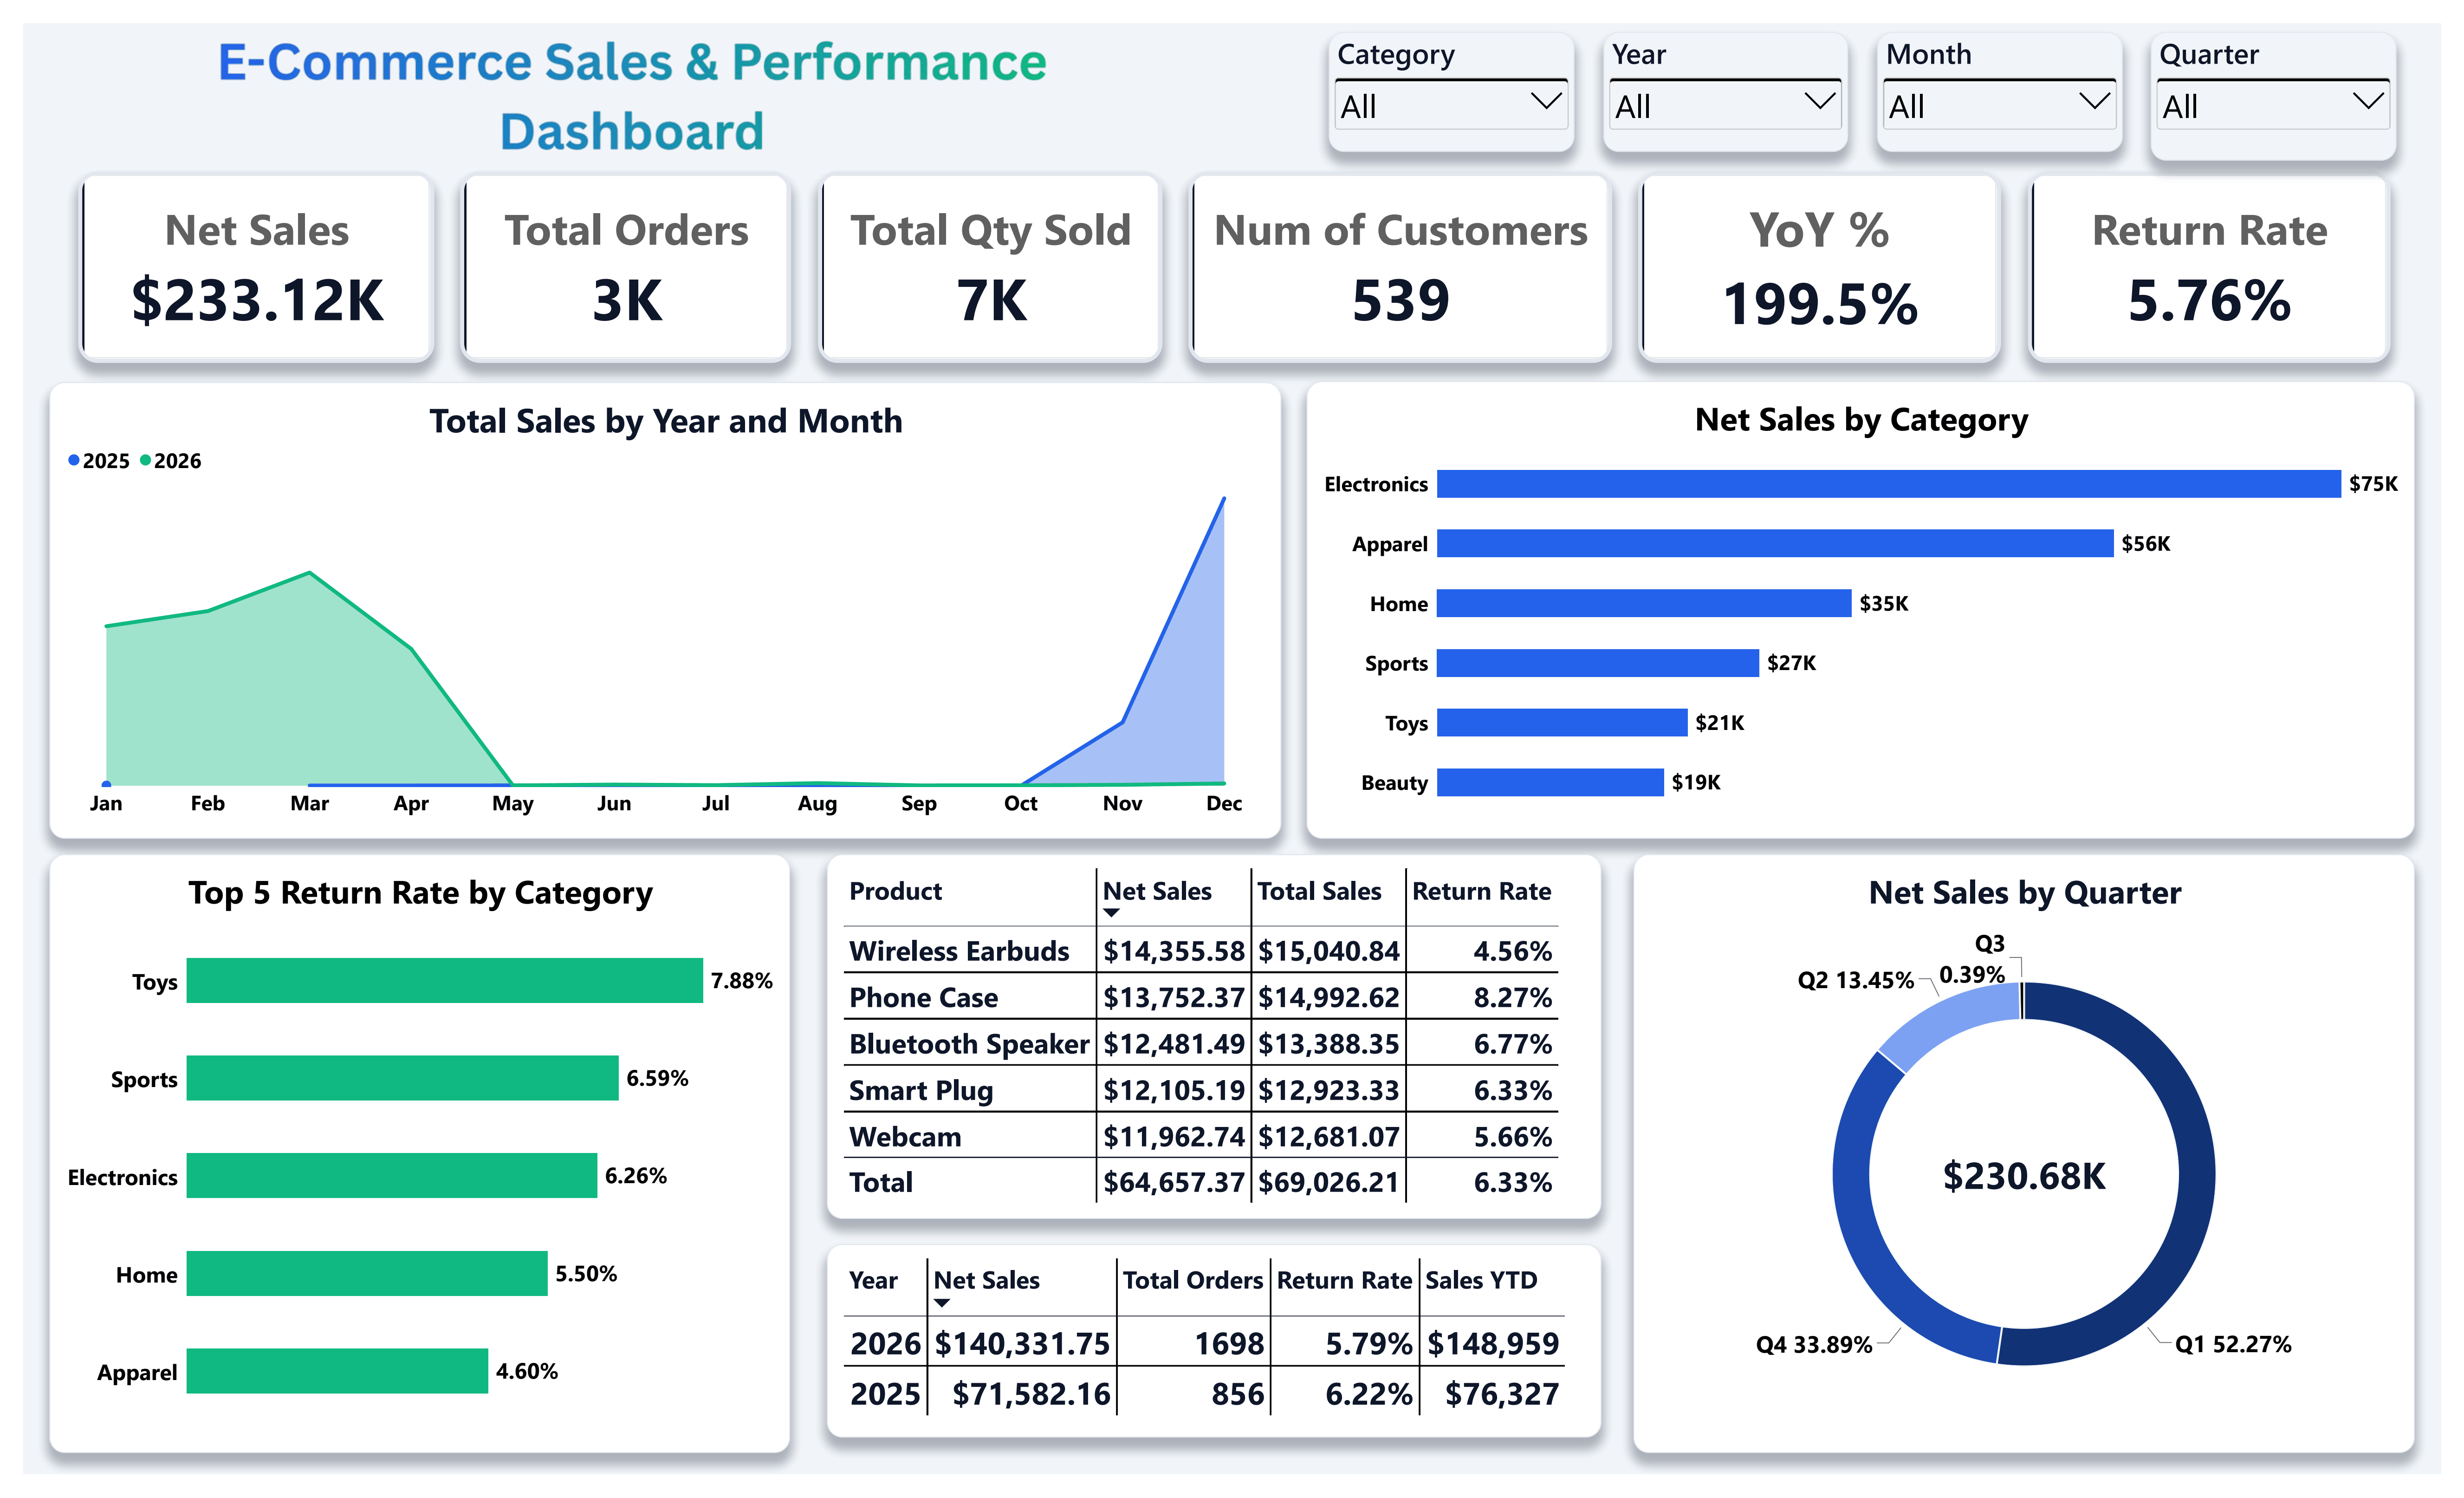

The dashboard page shown, as its layout file describes it:
{"tool":"powerbi","page":{"name":"Overview","canvas":[2500,1500],"ordinal":0},"visuals":[{"type":"cardVisual","fields":{"Data":["Measures (2).Net Sales"]},"box":[57,152.8,367.9,197.9],"z":0},{"type":"cardVisual","fields":{"Data":["Measures (2).Total Orders"]},"box":[452.2,152.8,342.2,197.9],"z":1000},{"type":"cardVisual","fields":{"Data":["Measures (2).Total Qty Sold"]},"box":[821.8,152.8,356.2,197.9],"z":2000},{"type":"cardVisual","fields":{"Data":["Measures (2).Num of Customers"]},"box":[1205.4,152.8,437.7,197.9],"z":3000},{"type":"cardVisual","fields":{"Data":["Measures (2).YoY %"]},"box":[1670.5,152.8,374.8,197.9],"z":4000},{"type":"slicer","fields":{"Values":["dim_products.category"]},"box":[1350.3,9.3,253.8,123.4],"z":5000},{"type":"cardVisual","fields":{"Data":["Measures (2).Return Rate %"]},"box":[2072.7,152.8,374.8,197.9],"z":6000},{"type":"areaChart","title":"Total Sales by Year and Month","fields":{"Category":["dim_date.Month Name"],"Series":["dim_date.Year"],"Y":["Measures (2).Total Sales"]},"box":[27.3,370.7,1273.5,472.6],"z":7000},{"type":"barChart","title":"Net Sales by Category","fields":{"Category":["dim_products.category"],"Y":["Measures (2).Net Sales"]},"box":[1327.1,370.2,1145.5,472.6],"z":8000},{"type":"tableEx","title":"Top 5 Net Sales by Product","fields":{"Values":["dim_products.product","Measures (2).Net Sales","Measures (2).Total Sales","Measures (2).Return Rate"]},"box":[830.9,859.1,800.9,377.2],"z":9000},{"type":"barChart","title":"Top 5 Return Rate by Category","fields":{"Category":["dim_products.category"],"Y":["Measures (2).Return Rate %"]},"box":[27.3,859.1,766,619.3],"z":10000},{"type":"slicer","fields":{"Values":["dim_date.Year"]},"box":[1633.6,9.3,253.8,123.4],"z":11000},{"type":"slicer","fields":{"Values":["dim_date.Month Name"]},"box":[1916.9,9.3,253.8,123.4],"z":12000},{"type":"slicer","fields":{"Values":["dim_date.Quarter"]},"box":[2200.1,9.3,253.8,132.7],"z":13000},{"type":"donutChart","fields":{"Category":["dim_date.Quarter"],"Y":["Measures (2).Net Sales"]},"box":[1664.7,859.1,807.9,619.3],"z":14000},{"type":"image","box":[0,0,1349.3,142],"z":15000},{"type":"tableEx","title":"Top 5 Net Sales by Product","fields":{"Values":["dim_date.Year","Measures (2).Net Sales","Measures (2).Total Orders","Measures (2).Return Rate","Measures (2).Sales YTD"]},"box":[831.2,1261.9,800.9,200.2],"z":16000}]}

Visuals, with their boxes on the page's 2500x1500 design canvas (x1, y1, x2, y2). These are canvas units, not pixel positions in the 2464x1498 screenshot, which may show the page scaled, cropped or inside an application window:
cardVisual - Measures (2).Net Sales: (left=57, top=153, right=425, bottom=351)
cardVisual - Measures (2).Total Orders: (left=452, top=153, right=794, bottom=351)
cardVisual - Measures (2).Total Qty Sold: (left=822, top=153, right=1178, bottom=351)
cardVisual - Measures (2).Num of Customers: (left=1205, top=153, right=1643, bottom=351)
cardVisual - Measures (2).YoY %: (left=1670, top=153, right=2045, bottom=351)
slicer - dim_products.category: (left=1350, top=9, right=1604, bottom=133)
cardVisual - Measures (2).Return Rate %: (left=2073, top=153, right=2448, bottom=351)
"Total Sales by Year and Month" areaChart: (left=27, top=371, right=1301, bottom=843)
"Net Sales by Category" barChart: (left=1327, top=370, right=2473, bottom=843)
"Top 5 Net Sales by Product" tableEx: (left=831, top=859, right=1632, bottom=1236)
"Top 5 Return Rate by Category" barChart: (left=27, top=859, right=793, bottom=1478)
slicer - dim_date.Year: (left=1634, top=9, right=1887, bottom=133)
slicer - dim_date.Month Name: (left=1917, top=9, right=2171, bottom=133)
slicer - dim_date.Quarter: (left=2200, top=9, right=2454, bottom=142)
donutChart - dim_date.Quarter x Measures (2).Net Sales: (left=1665, top=859, right=2473, bottom=1478)
image: (left=0, top=0, right=1349, bottom=142)
"Top 5 Net Sales by Product" tableEx: (left=831, top=1262, right=1632, bottom=1462)
